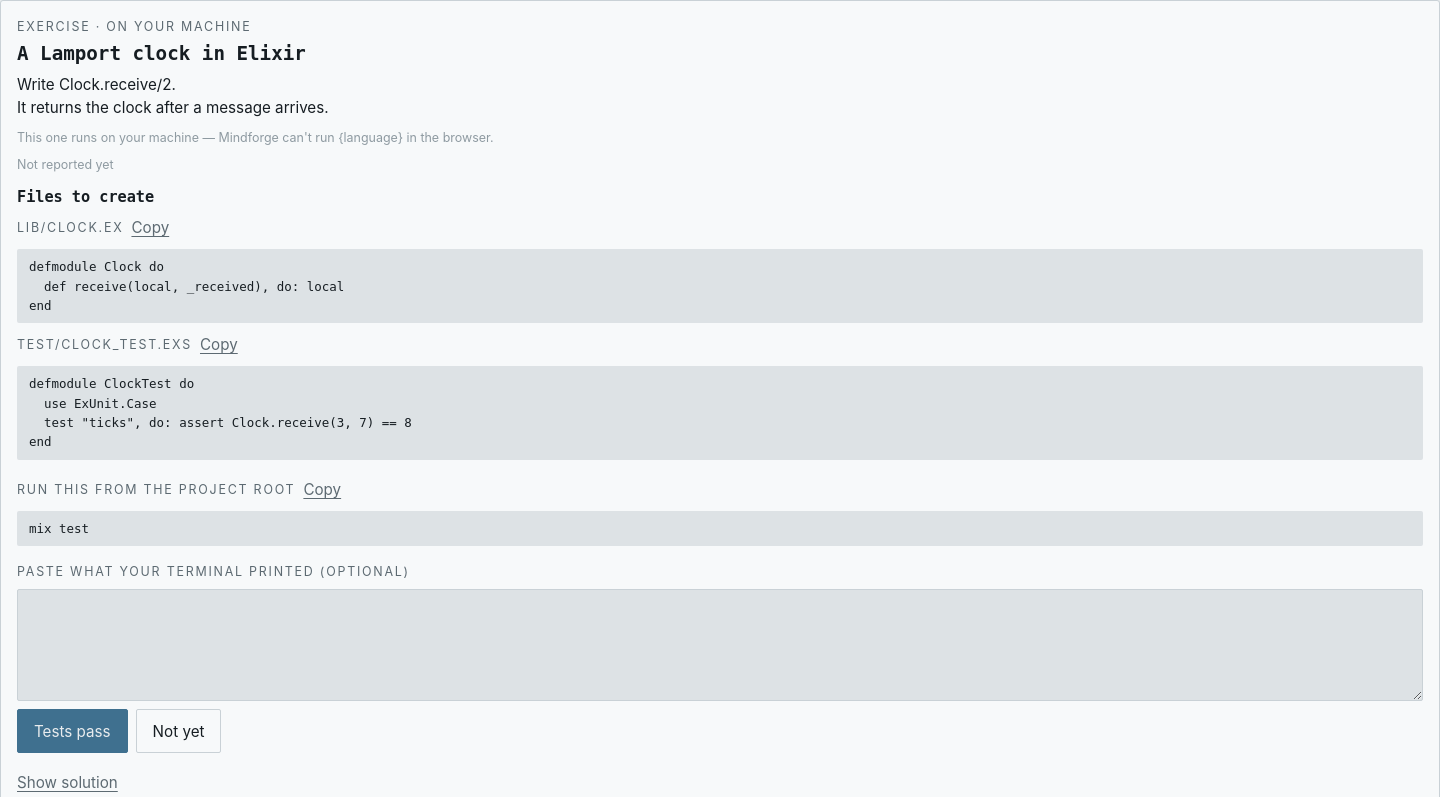
a task exercise › says when copying failed, rather than pretending it worked
Click the button with aria-label "Copy the command" at (322, 489), box top-left (303, 476), bottom-right (341, 503)
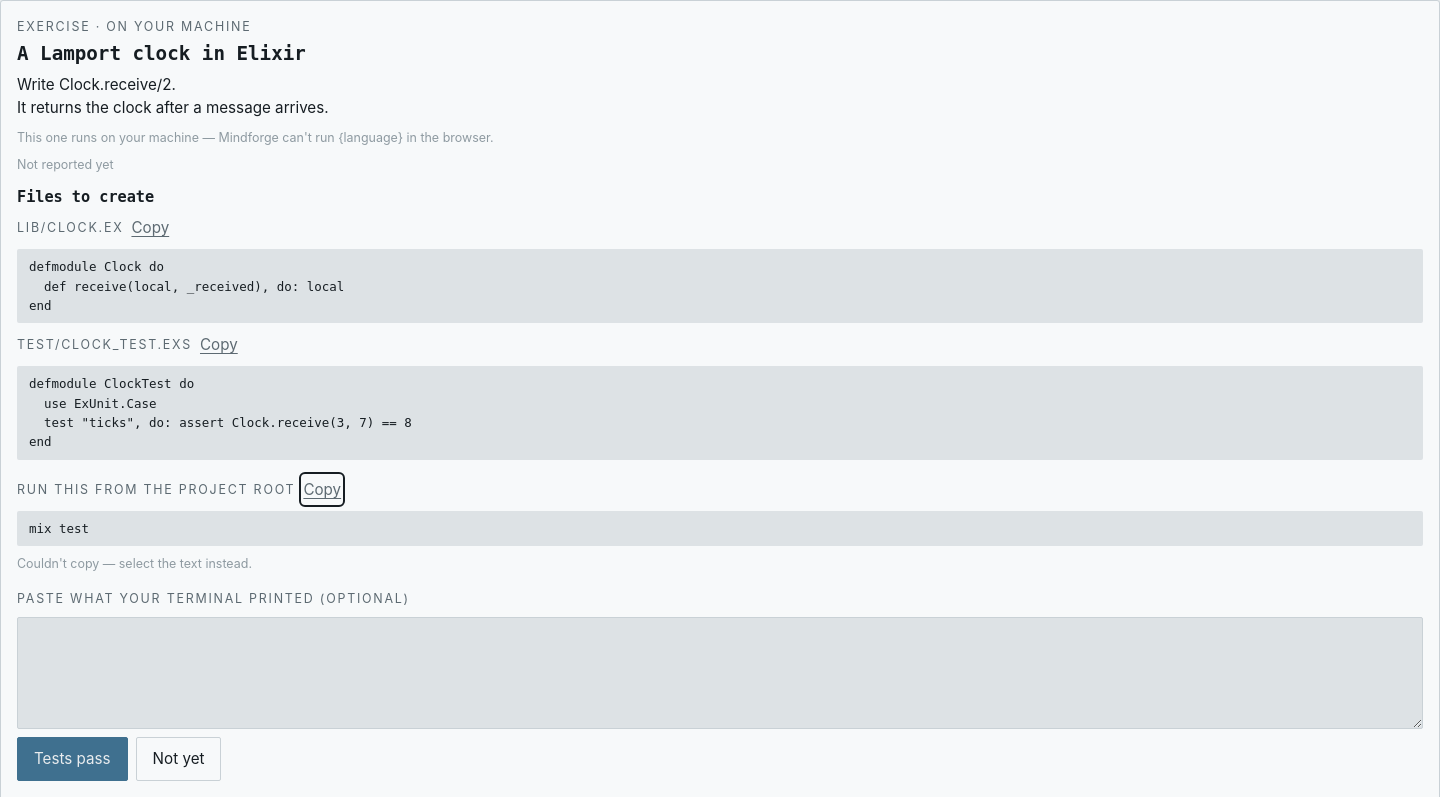
Check: the text "Couldn't copy — select the text instead." is shown, box top-left (17, 556), bottom-right (252, 571)
